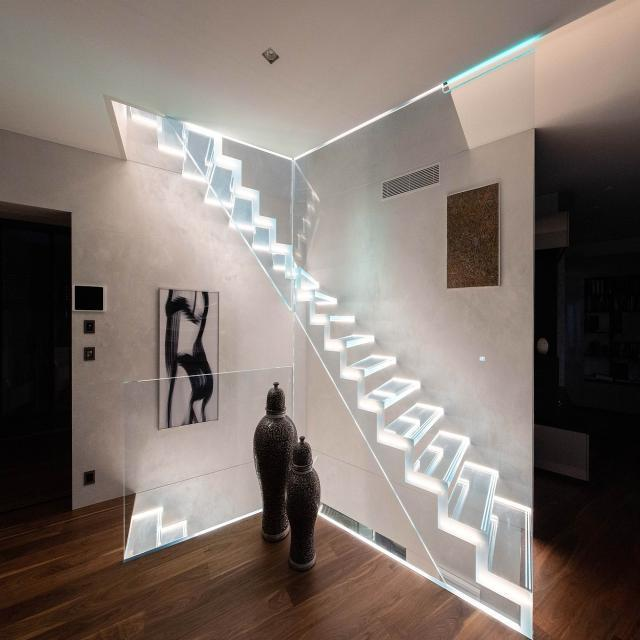stairs: (156, 111, 534, 632)
